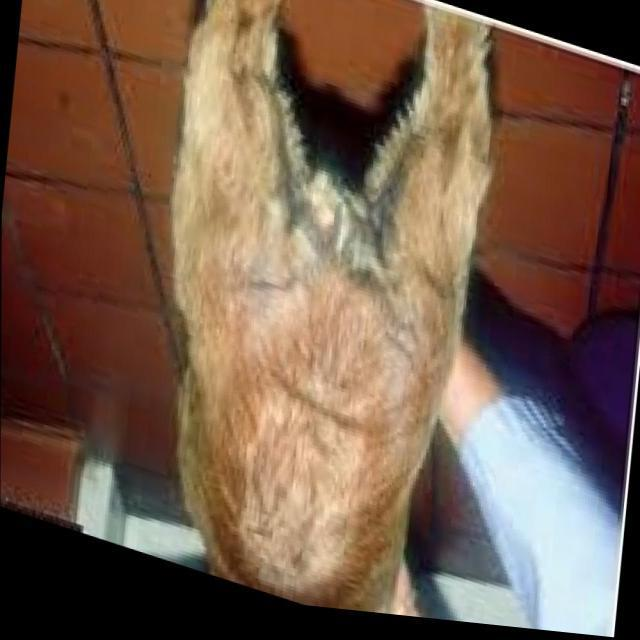allergic dermatitis: (237, 373, 353, 592)
